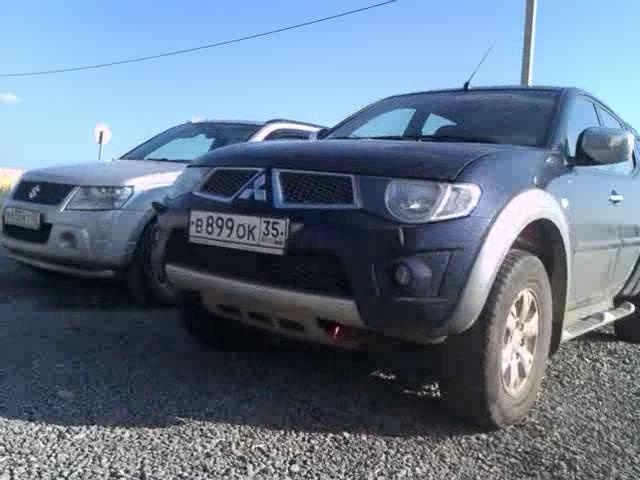car license plate: (186, 208, 287, 261), (1, 205, 44, 233)
